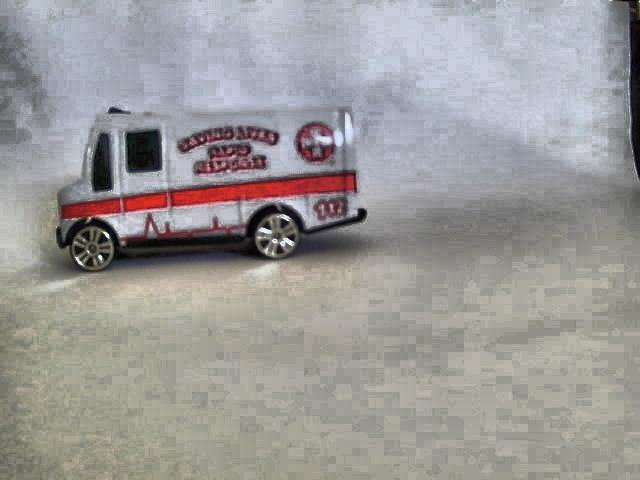ambulance: (55, 105, 366, 271)
